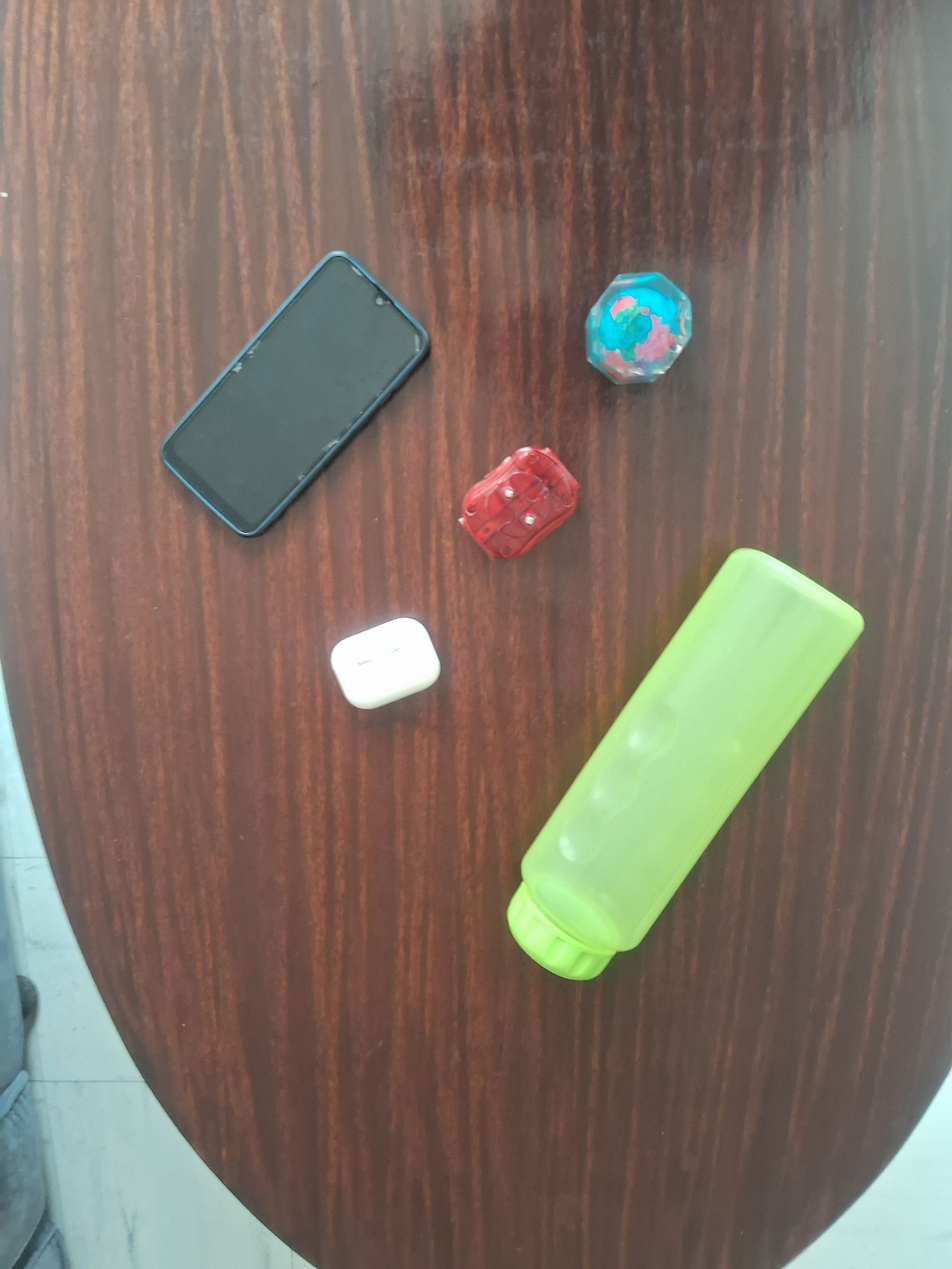Air_pod: (328, 615, 443, 711), (385, 711, 386, 712)
Multi_adapter: (456, 443, 583, 561)
Smart_phone: (155, 245, 441, 543)
Water_bottle: (504, 545, 893, 985)
world_globe: (582, 270, 695, 387)
